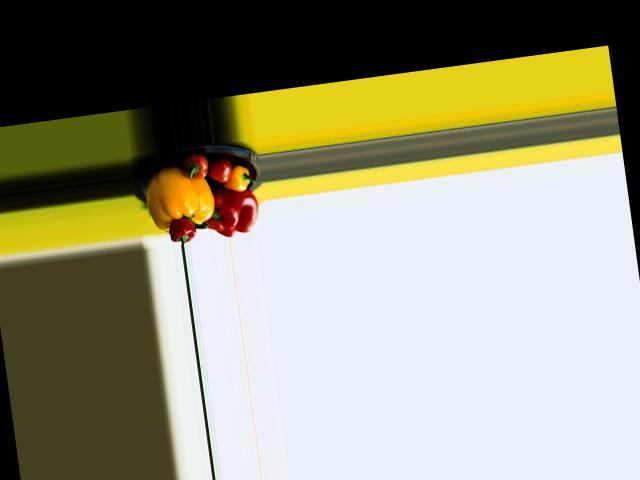bell_pepper: (224, 164, 254, 194)
